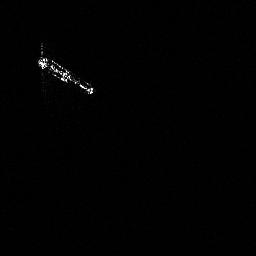ship: (37, 43, 94, 94)
